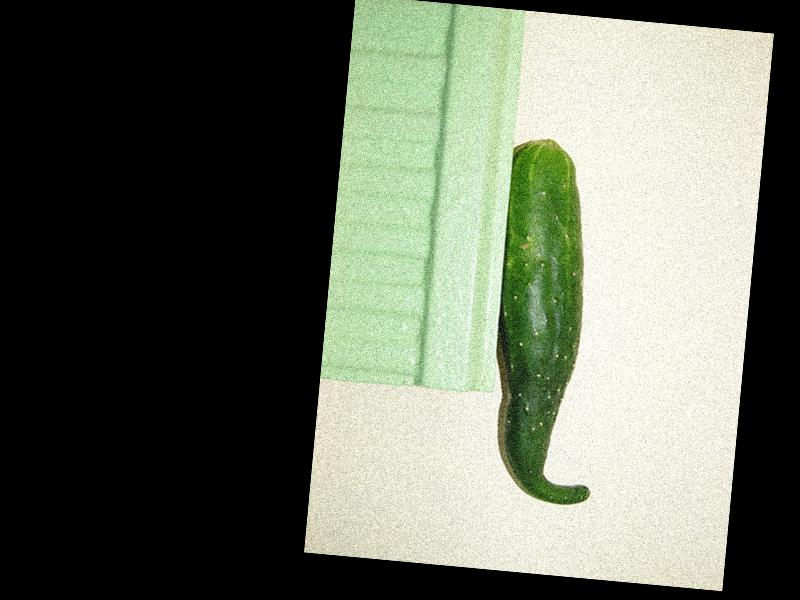Cucumber: (480, 136, 621, 508)
